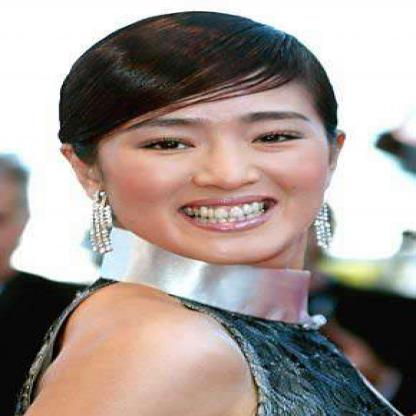face: (89, 16, 338, 268)
